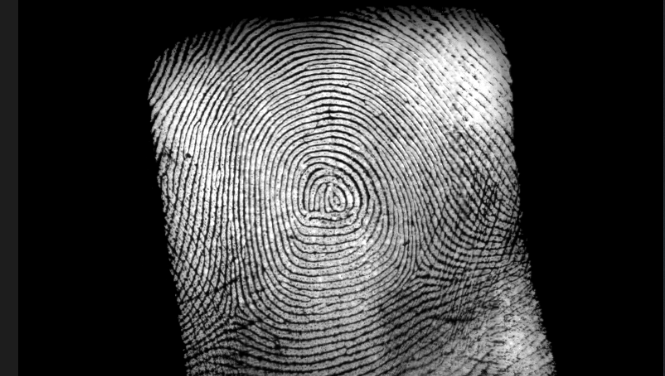deltas: (201, 280, 264, 336), (393, 243, 443, 296)
nucleo: (312, 173, 352, 223)
